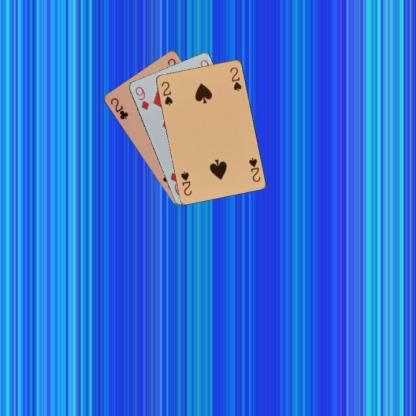2c: (107, 95, 130, 121)
2s: (246, 154, 261, 184), (158, 78, 174, 106)
9d: (132, 84, 150, 112)
